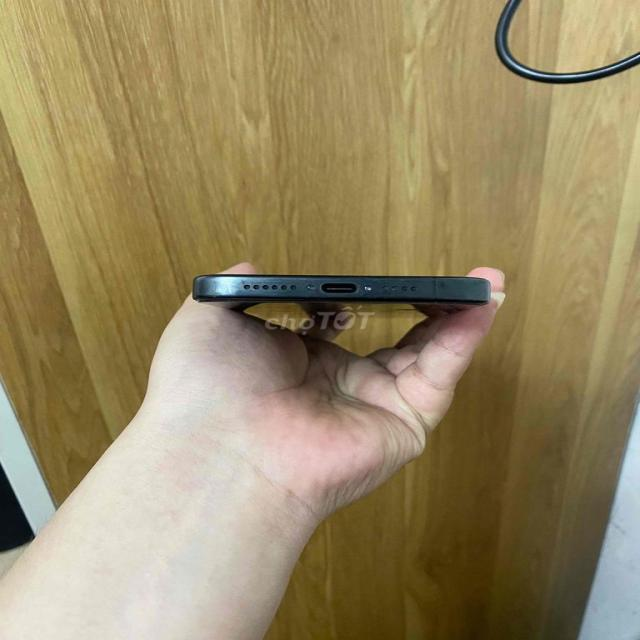gen_15: (180, 264, 503, 332)
scratch: (348, 280, 499, 303), (206, 277, 318, 300)
